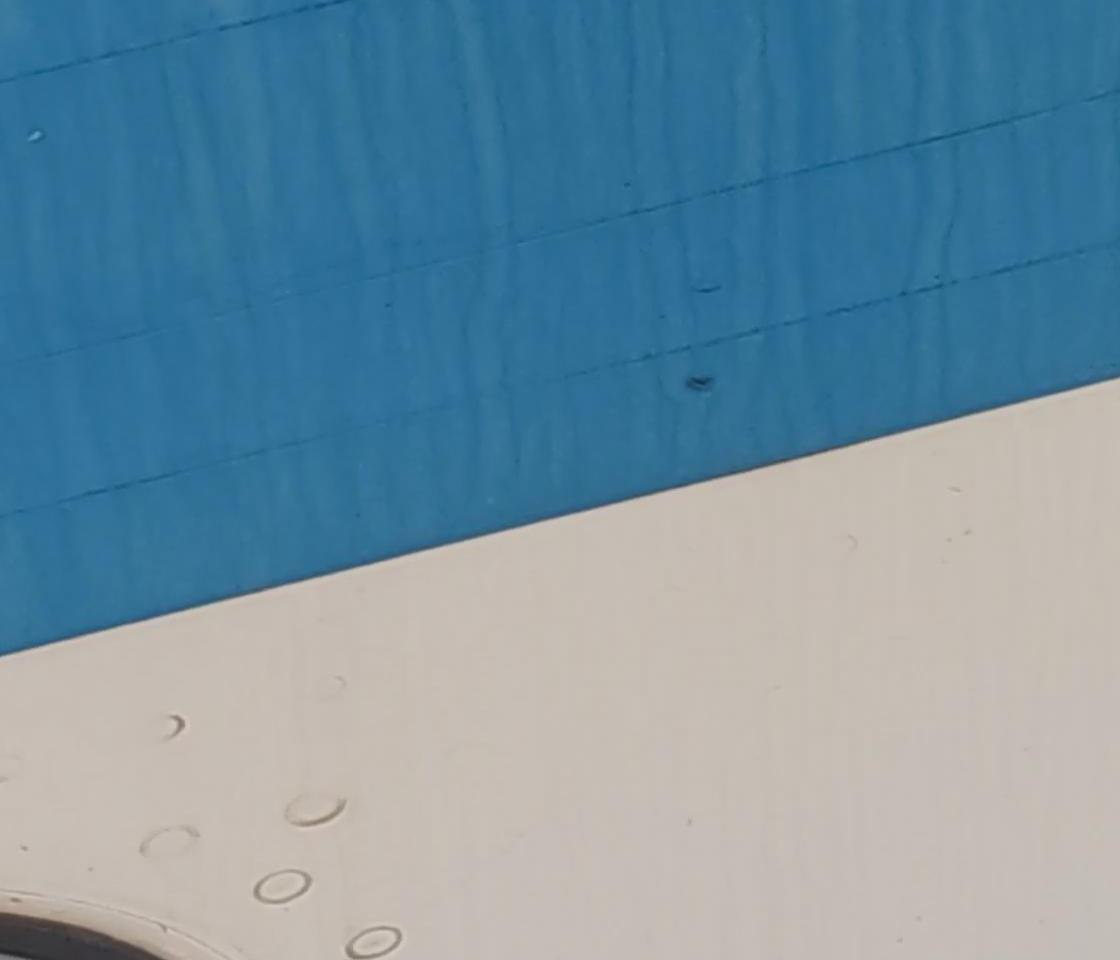scratch: (678, 274, 735, 301)
